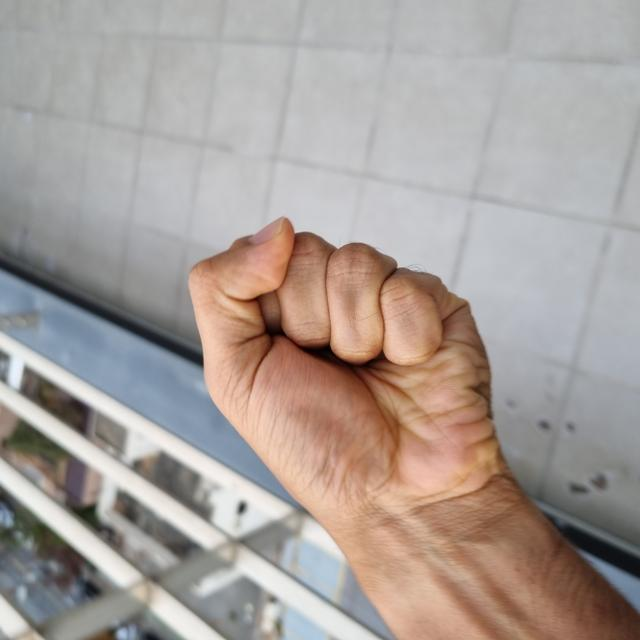Rock: (61, 188, 424, 498)
